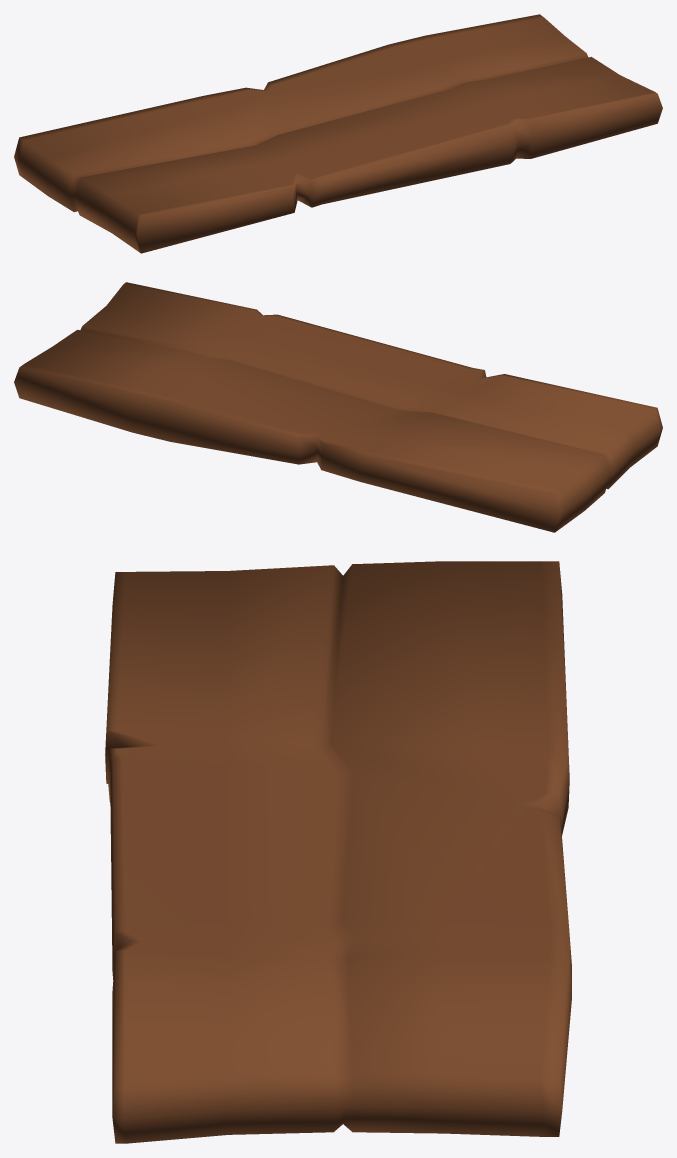
The model's file is Plank_C.fbx.
3 renders of one model, top to bottom at view 1: azimuth 30°, elevation 25°; view 2: azimuth 150°, elevation 25°; view 3: azimuth 270°, elevation 25°, orthographic. The views are drawn at different scales.
Visible parts, largest first — view 1: Plank_C; view 2: Plank_C; view 3: Plank_C.
Part boxes in pixels (x1,y1,x2,y2): Plank_C: (14,14,662,253); Plank_C: (14,282,662,532); Plank_C: (105,561,571,1143).
Size of the model in its own units: 149 by 56.07 by 10.23.
